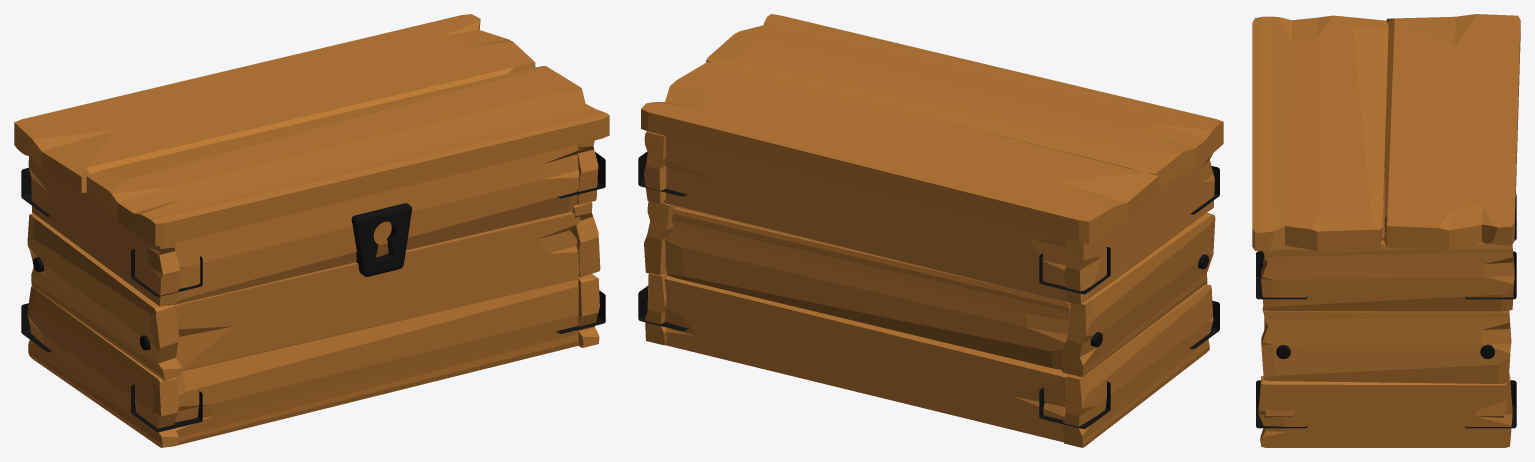
Rendered from chest.glb.
3 renders of one model, left to right at view 1: azimuth 30°, elevation 25°; view 2: azimuth 150°, elevation 25°; view 3: azimuth 270°, elevation 25°, orthographic. The views are drawn at different scales.
Parts seen in each view (by area): view 1: Front, Top, Left, Deco, Right; view 2: Back, Top, Left, Right, Deco; view 3: Top, Right, Deco, Back.
Boxes of the visible parts, x1,y1,x2,y2 form: Front: [166, 144, 590, 447]; Top: [14, 14, 609, 246]; Left: [27, 156, 181, 447]; Deco: [21, 152, 605, 432]; Right: [570, 140, 600, 347]; Back: [663, 136, 1073, 442]; Top: [641, 14, 1223, 243]; Left: [1062, 154, 1215, 447]; Right: [644, 131, 674, 345]; Deco: [638, 151, 1219, 428]; Top: [1252, 14, 1520, 252]; Right: [1258, 240, 1514, 447]; Deco: [1256, 194, 1516, 428]; Back: [1476, 400, 1506, 417].
Size of the model in its own units: 2.05 by 0.9814 by 1.07.
